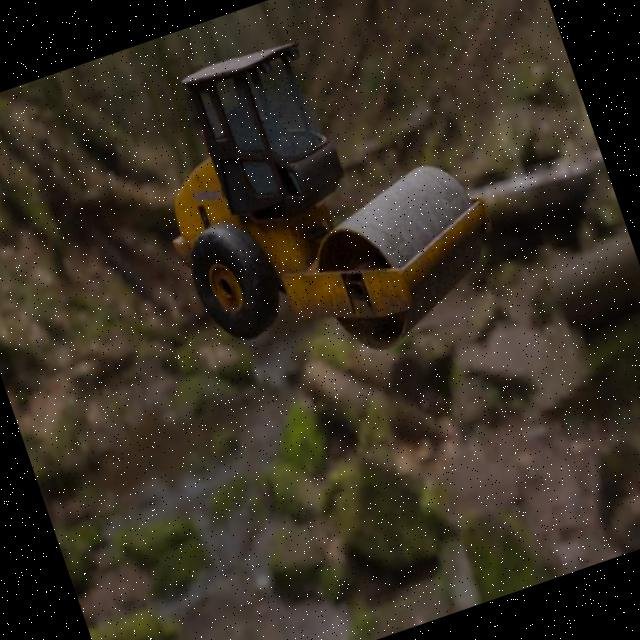Roller: (120, 0, 519, 404)
